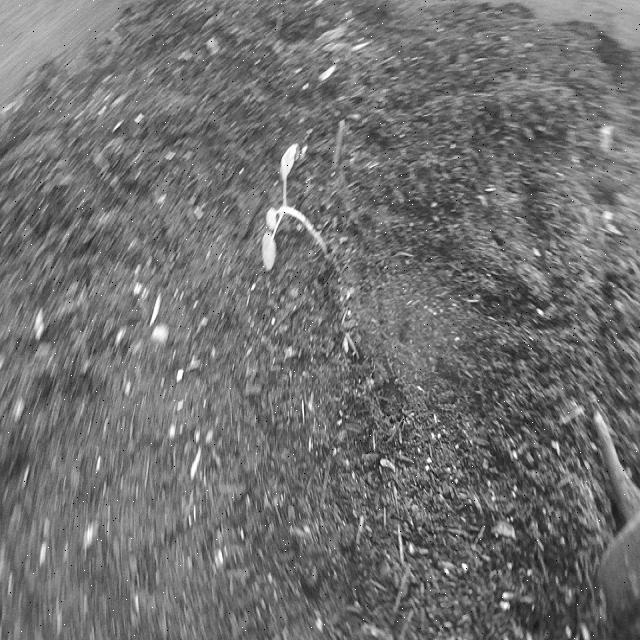Unhealthy: (246, 128, 338, 291)
